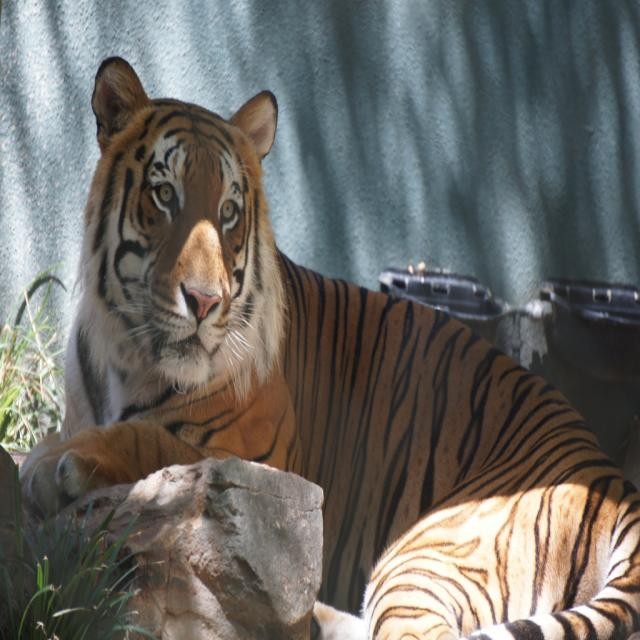Tiger: (18, 52, 640, 640)
